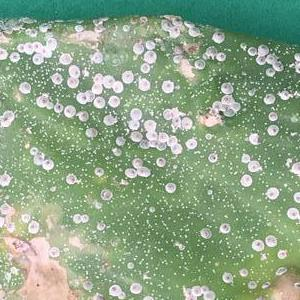Femea: (1, 115, 12, 126), (163, 82, 174, 92), (253, 240, 263, 251), (268, 188, 277, 199), (269, 125, 278, 136), (109, 96, 118, 106), (78, 93, 87, 102), (93, 98, 103, 106), (289, 209, 297, 218), (44, 159, 53, 167), (34, 155, 43, 163), (95, 168, 104, 175), (30, 147, 37, 154)
Linfa: (171, 263, 187, 278), (141, 271, 157, 280), (111, 227, 126, 236), (52, 130, 64, 141), (222, 199, 235, 209), (84, 156, 97, 166), (148, 90, 161, 100), (121, 98, 132, 109), (121, 210, 133, 220), (133, 236, 146, 245), (96, 135, 110, 143), (37, 76, 48, 86), (261, 157, 271, 168), (175, 199, 186, 209), (175, 249, 185, 260), (144, 218, 152, 231), (67, 141, 77, 151), (168, 163, 178, 173), (225, 160, 235, 170), (142, 246, 151, 257), (178, 222, 189, 231), (30, 175, 41, 184), (149, 287, 160, 296), (26, 120, 38, 128), (28, 76, 40, 84), (225, 170, 238, 177), (244, 113, 254, 122), (138, 255, 147, 265), (38, 64, 49, 72), (146, 102, 154, 113), (179, 164, 188, 173), (125, 226, 134, 235), (39, 127, 47, 137), (144, 180, 152, 190), (187, 163, 195, 173), (53, 145, 64, 152), (135, 94, 146, 101), (186, 249, 193, 260), (55, 160, 64, 168), (23, 61, 31, 70), (238, 119, 247, 127), (132, 188, 141, 196), (142, 280, 154, 286), (77, 146, 87, 153), (103, 126, 113, 133), (28, 67, 35, 76), (89, 148, 99, 154), (64, 164, 79, 168), (16, 73, 24, 80), (74, 152, 83, 158), (154, 246, 164, 251), (80, 165, 87, 172), (83, 139, 92, 144), (65, 134, 72, 140)
